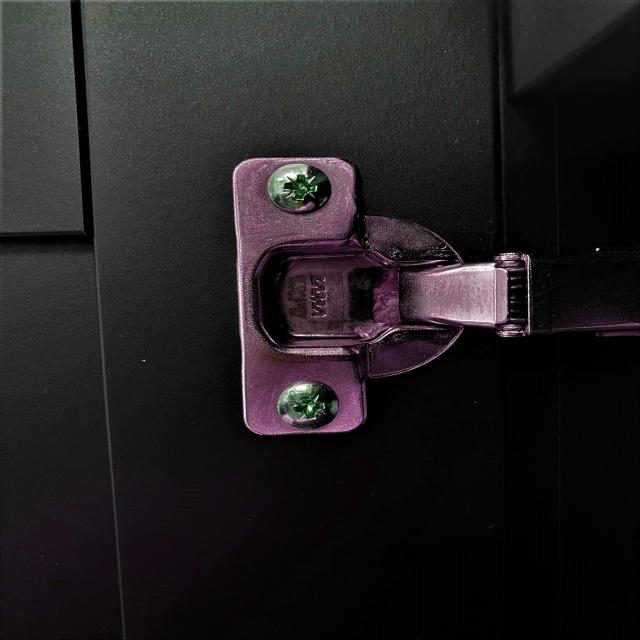PhillipsScrewHead: (266, 163, 334, 216), (278, 380, 342, 430)
